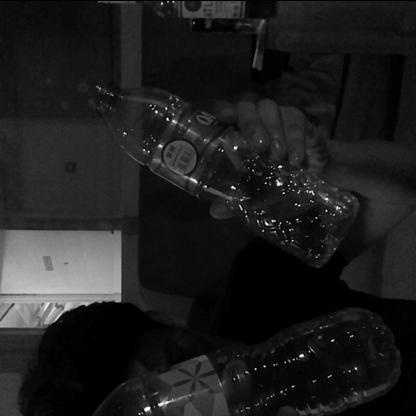plastic_bottles: (90, 80, 351, 268), (91, 310, 390, 412)
